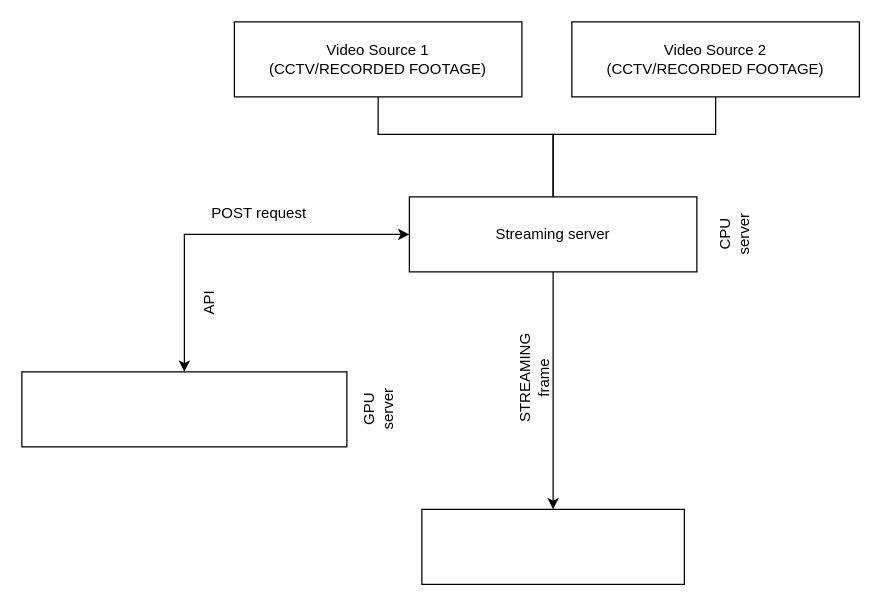
The diagram is 881 pixels wide and 606 high, and some of its shapes have lost their labels. The shapes that lost their labels are listed below. From the top down, each one's centre as x and y in pixels, then its label:
the point at 184,409: Object Detection and Tracking ML Model (Docker Container)
the point at 552,546: Web server
